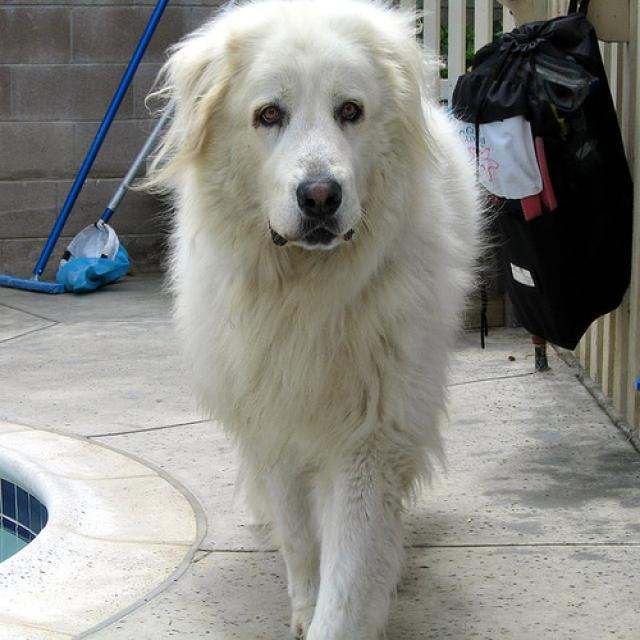dog-great_pyrenees: (163, 1, 489, 637)
